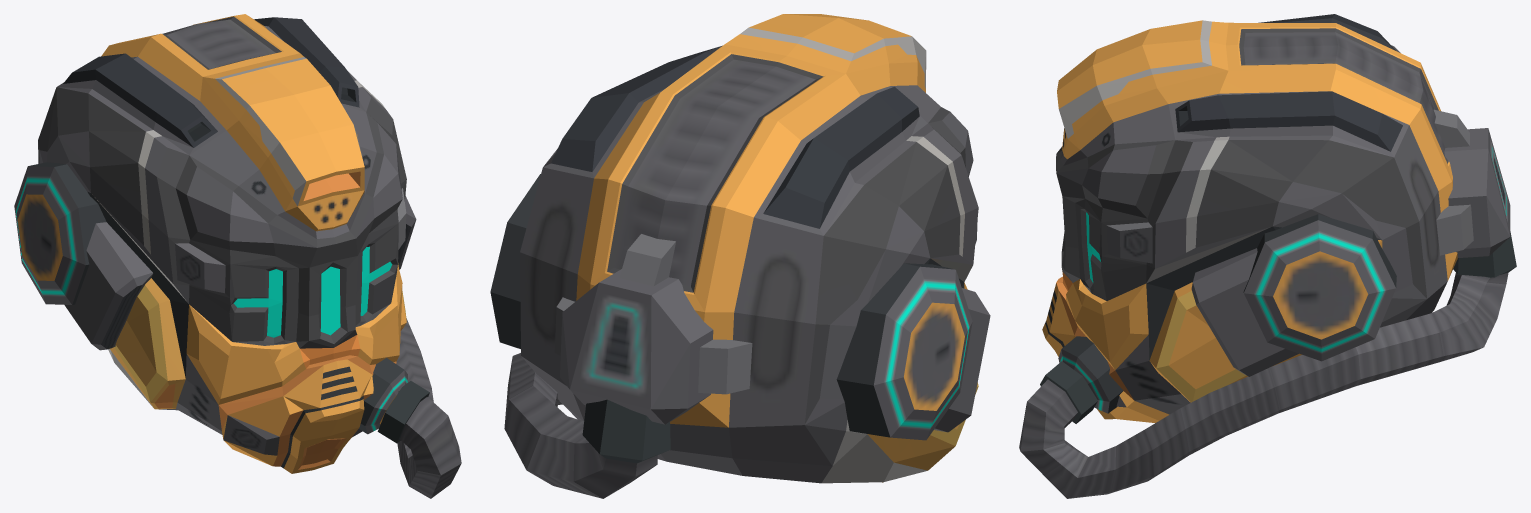
File: mech_SM_Chr_Attach_Helmet_01.gltf
3 views of the same model, side by side, from view 1: azimuth 30°, elevation 25°; view 2: azimuth 150°, elevation 25°; view 3: azimuth 270°, elevation 25° (orthographic). The views are drawn at different scales.
Parts seen in each view (by area): view 1: SM_Chr_Attach_Helmet_01; view 2: SM_Chr_Attach_Helmet_01; view 3: SM_Chr_Attach_Helmet_01.
Part boxes in pixels (bbox=[...]): SM_Chr_Attach_Helmet_01: bbox=[14, 14, 461, 498]; SM_Chr_Attach_Helmet_01: bbox=[490, 14, 990, 498]; SM_Chr_Attach_Helmet_01: bbox=[1019, 14, 1516, 498].
Bounding box in the file's own units: 0.3261 × 0.3777 × 0.4152.
1 material, 1 textured.
